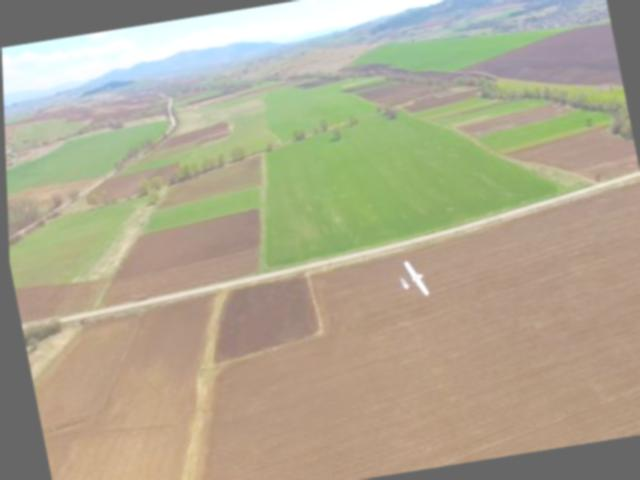uav: (388, 252, 431, 302)
